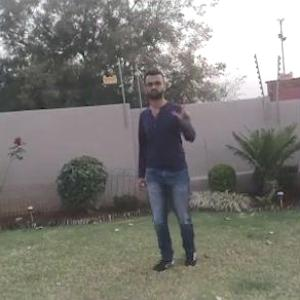land_hand: (170, 94, 200, 125)
